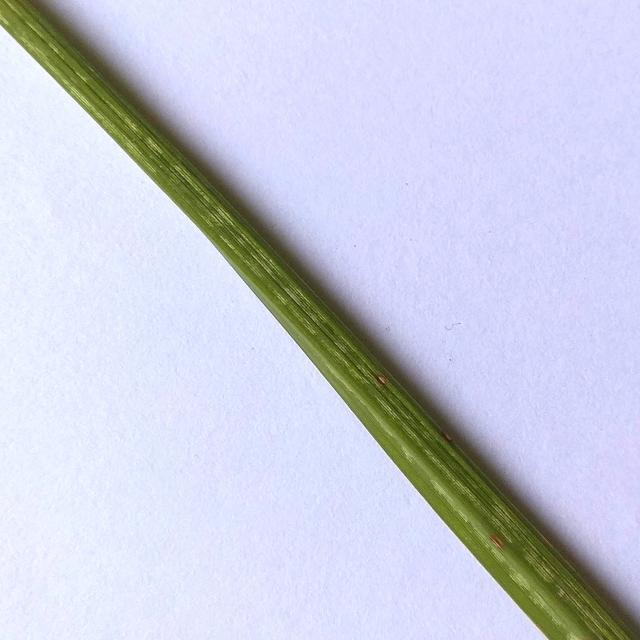Blast: (488, 536, 513, 555), (372, 374, 394, 390)
